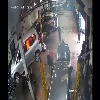fire: (22, 33, 35, 52)
